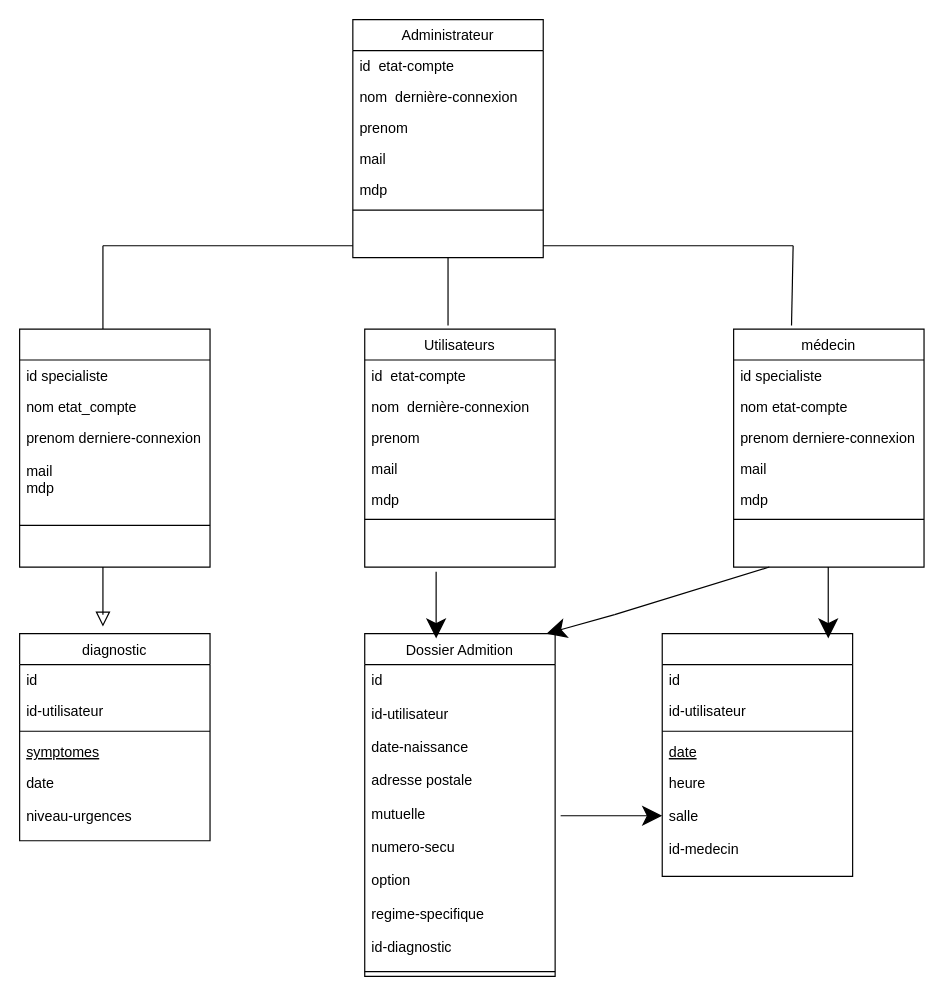
The diagram is 944 pixels wide and 996 high, and some of its shapes have lost their labels. The shapes that lost their labels are listed below. From the top down, each one's box as (x1, y1, x2, y2) in pixels, then its label:
(18, 328, 210, 567): Urgentiste
(661, 632, 853, 876): Rendez-Vous
